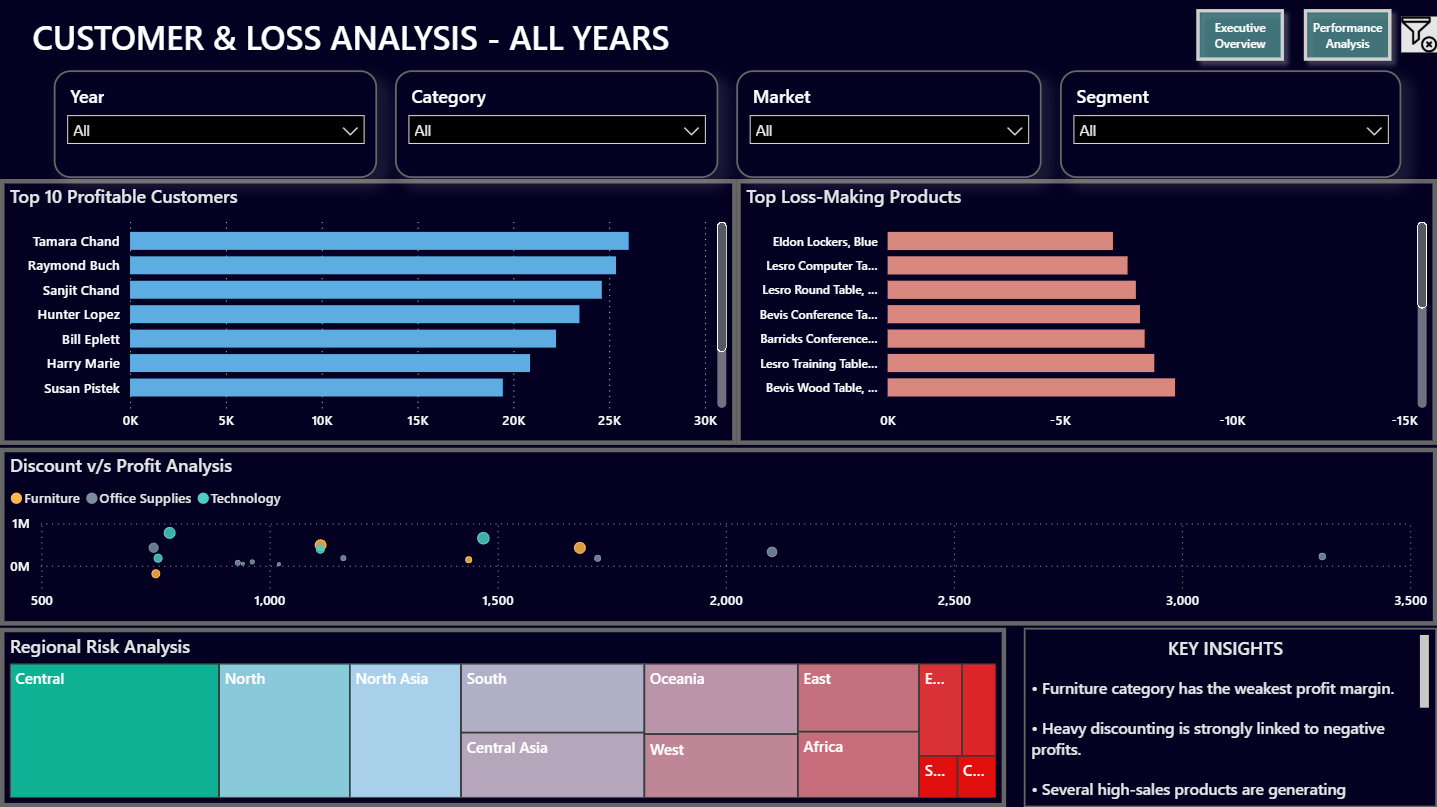

What the dashboard file says about the page in this screenshot:
{"tool":"powerbi","page":{"name":"Customer & Loss Analysis","canvas":[1280,720],"ordinal":2},"visuals":[{"type":"clusteredBarChart","title":"Top 10 Profitable Customers","fields":{"Category":["ecommerce_db superstore.customer_name"],"Y":["Sum(ecommerce_db superstore.profit)"]},"box":[0,160,656,237],"z":0},{"type":"barChart","title":"Top Loss-Making Products","fields":{"Category":["ecommerce_db superstore.product_name"],"Y":["Sum(ecommerce_db superstore.profit)"]},"box":[656,160,624,237],"z":1000},{"type":"scatterChart","title":"Discount v/s Profit Analysis","fields":{"X":["Sum(ecommerce_db superstore.discount)"],"Y":["Sum(ecommerce_db superstore.profit)"],"Size":["Sum(ecommerce_db superstore.sales)"],"Series":["ecommerce_db superstore.Category"],"Category":["ecommerce_db superstore.sub_category"]},"box":[0,400,1280,158],"z":2000},{"type":"treemap","title":"Regional Risk Analysis","fields":{"Values":["Sum(ecommerce_db superstore.profit)"],"Group":["ecommerce_db superstore.Region"]},"box":[0,560,896,160],"z":3000},{"type":"slicer","fields":{"Values":["ecommerce_db superstore.Year"]},"box":[48,64,288,96],"z":4000},{"type":"slicer","fields":{"Values":["ecommerce_db superstore.Category"]},"box":[352,64,288,96],"z":5000},{"type":"slicer","fields":{"Values":["ecommerce_db superstore.market"]},"box":[656,64,272,96],"z":6000},{"type":"slicer","fields":{"Values":["ecommerce_db superstore.Segment"]},"box":[944,64,304,96],"z":7000},{"type":"actionButton","box":[1056,0,96,64],"z":8000},{"type":"textbox","box":[912,560,368,160],"z":9000},{"type":"actionButton","box":[1152,0,96,64],"z":10000},{"type":"cardVisual","fields":{"Data":["ecommerce_db superstore.Title 3"]},"box":[0,0,864,64],"z":11000},{"type":"image","box":[1248,16,32,32],"z":12000}]}

Visuals, with their boxes in screenshot pixels (x1, y1, x2, y2), scaled from the page's 1280x720 canvas onto the 1437x807 screenshot:
"Top 10 Profitable Customers" clusteredBarChart: select_region(0, 179, 736, 445)
"Top Loss-Making Products" barChart: select_region(736, 179, 1436, 445)
"Discount v/s Profit Analysis" scatterChart: select_region(0, 448, 1436, 625)
"Regional Risk Analysis" treemap: select_region(0, 628, 1006, 806)
slicer - ecommerce_db superstore.Year: select_region(54, 72, 377, 179)
slicer - ecommerce_db superstore.Category: select_region(395, 72, 718, 179)
slicer - ecommerce_db superstore.market: select_region(736, 72, 1042, 179)
slicer - ecommerce_db superstore.Segment: select_region(1060, 72, 1401, 179)
actionButton: select_region(1186, 0, 1293, 72)
textbox: select_region(1024, 628, 1436, 806)
actionButton: select_region(1293, 0, 1401, 72)
cardVisual - ecommerce_db superstore.Title 3: select_region(0, 0, 970, 72)
image: select_region(1401, 18, 1436, 54)
